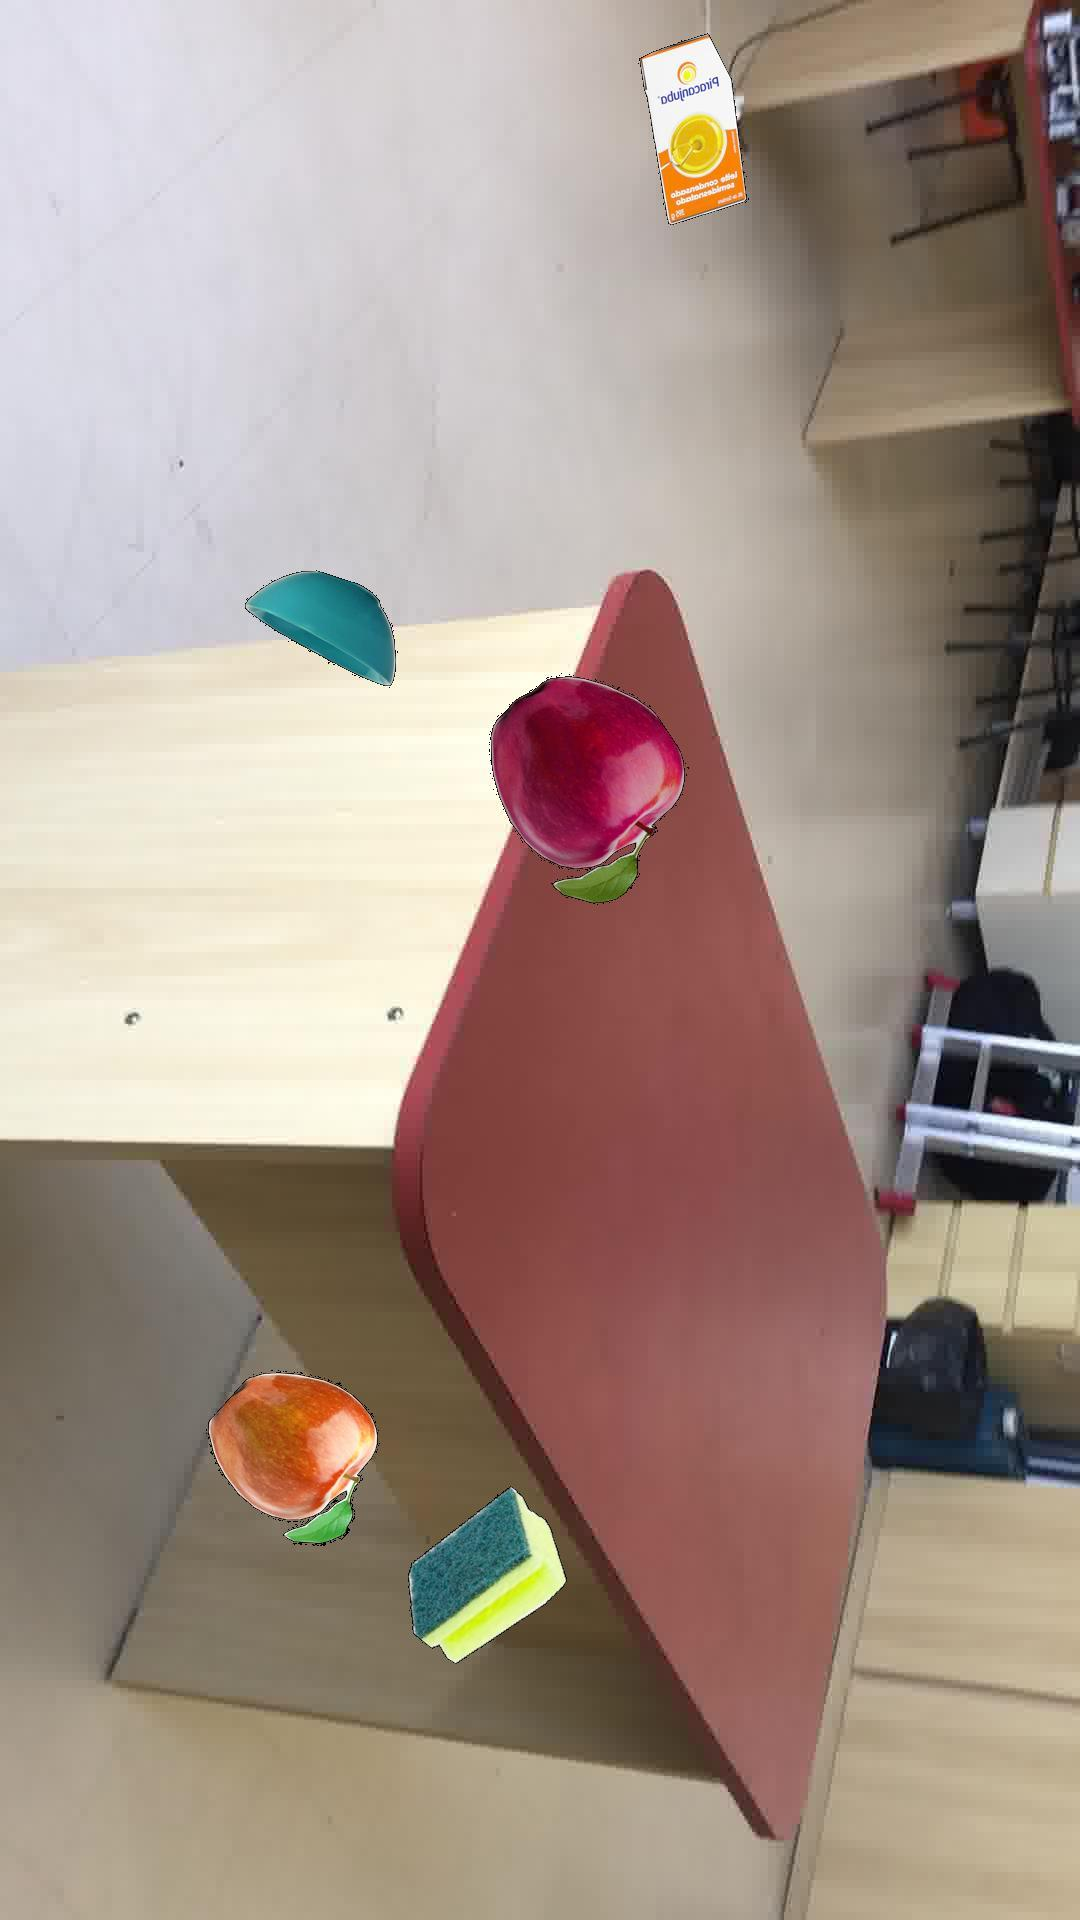apple: (488, 674, 683, 902), (207, 1370, 377, 1544)
bowl: (244, 568, 394, 684)
sponge: (406, 1485, 566, 1663)
